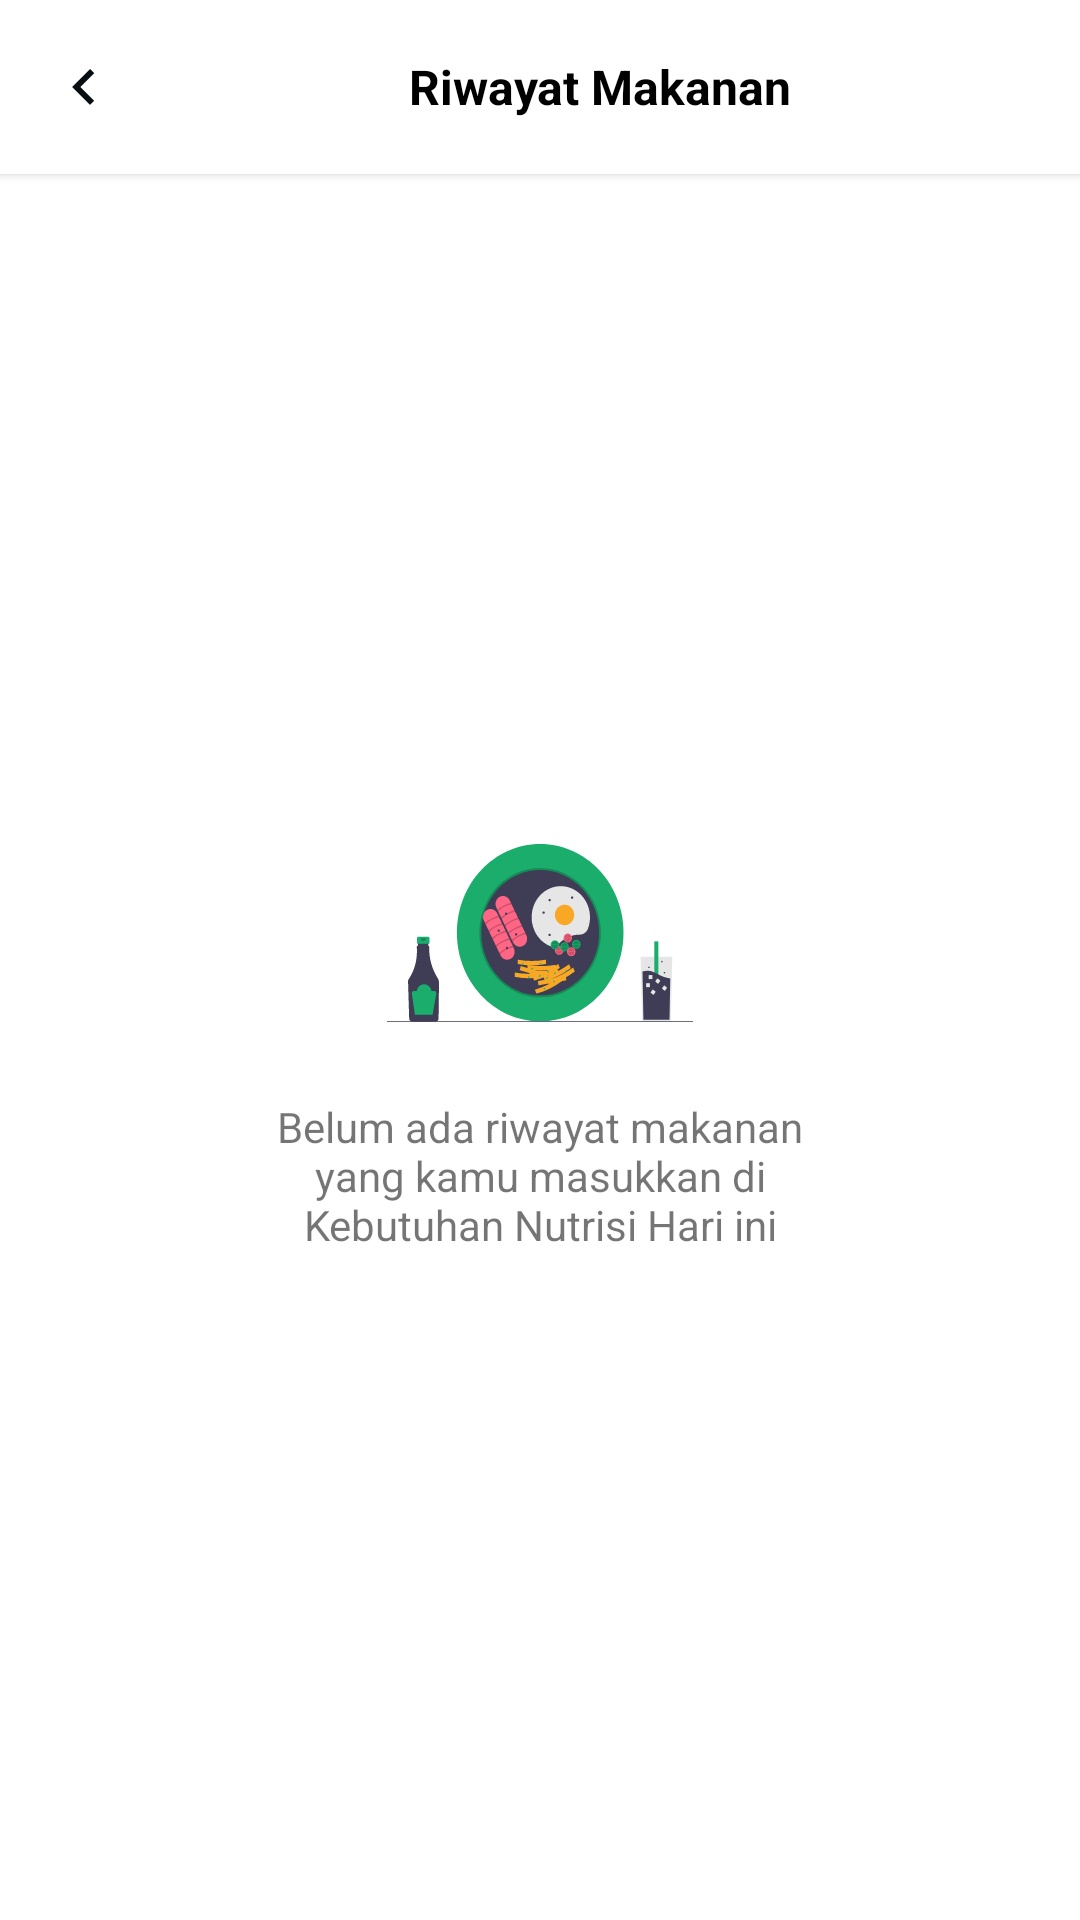

Screen size 1080x1920. Icon name, then its box in pixels as (x1, y1, x2, y2):
back: (72, 69, 94, 105)
pic profile food: (387, 844, 693, 1022)
